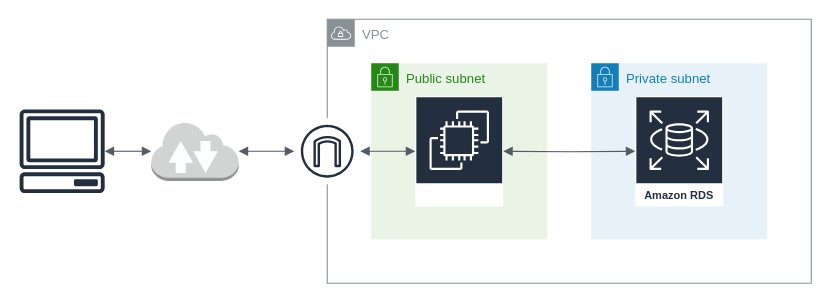
The diagram is 831 pixels wide and 303 high, and some of its shapes have lost their labels. The shapes that lost their labels are listed below. From the top down, each one's centre as x and y in pixels, then its label:
(326,150): Internet gateway
(458,150): Amazon EC2
